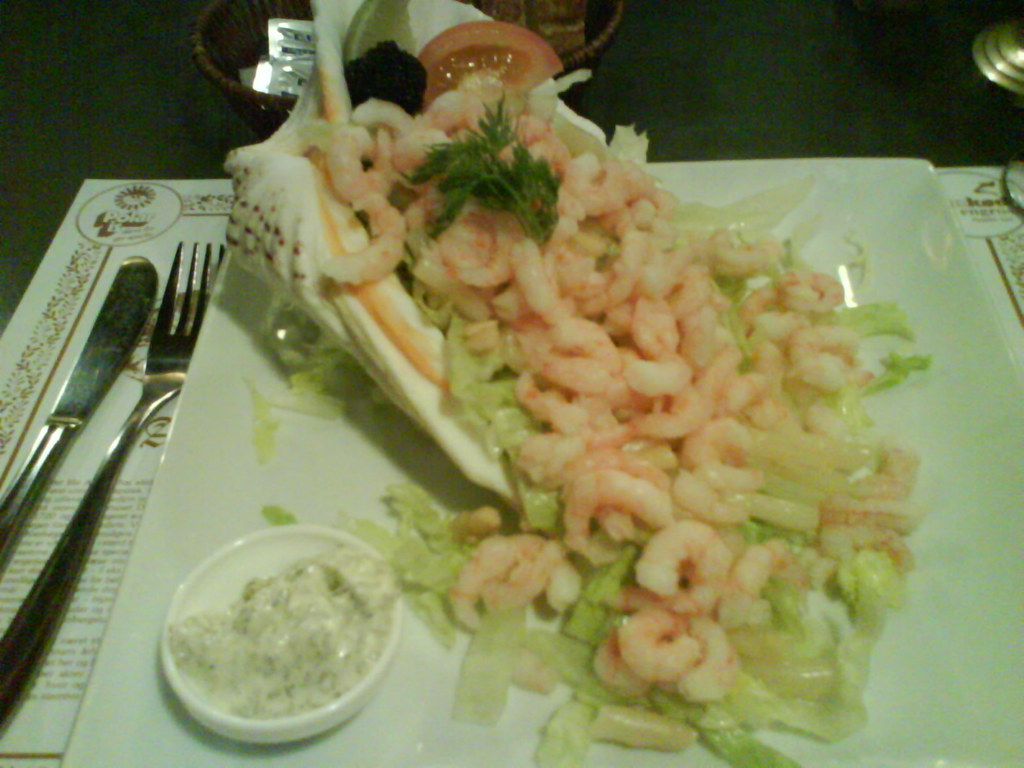salad: (324, 16, 941, 767)
